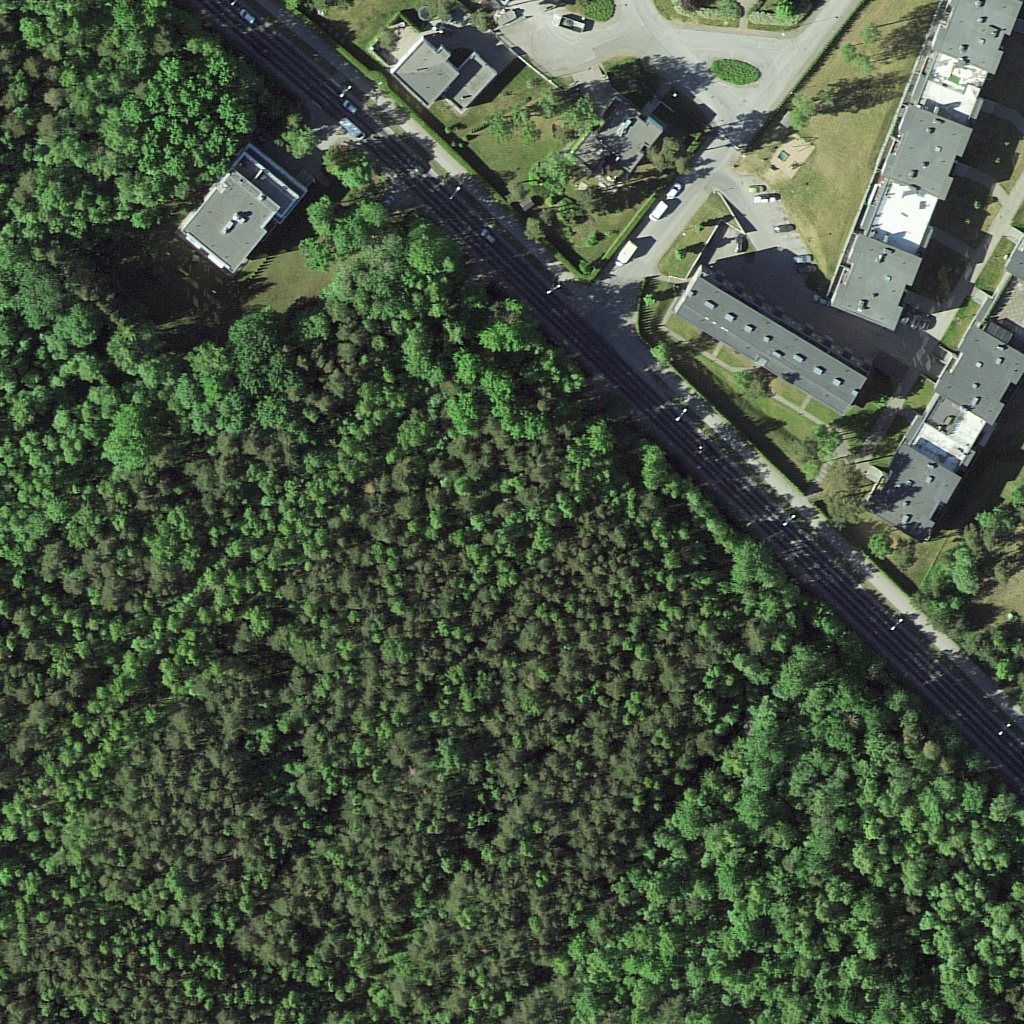building: (671, 268, 865, 416), (870, 99, 985, 204), (820, 233, 922, 336), (187, 170, 284, 271), (934, 319, 1024, 425), (871, 438, 962, 539), (925, 1, 1019, 86), (569, 95, 660, 177), (387, 36, 450, 102)
